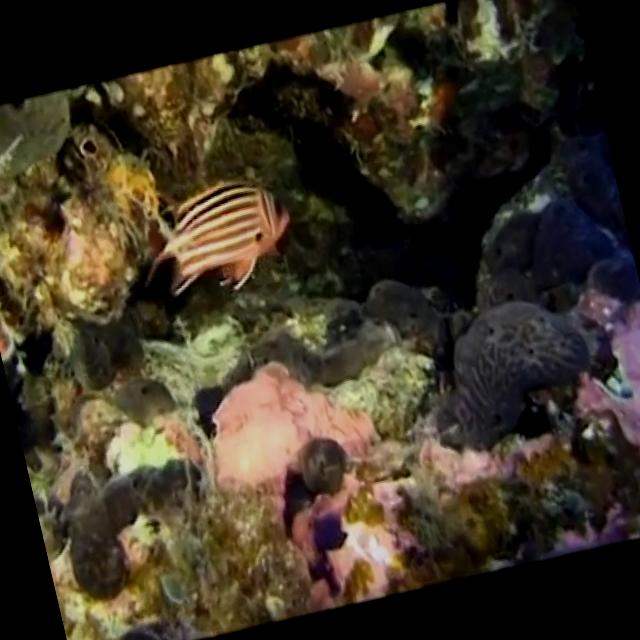Asker Baligi: (122, 164, 304, 312)
